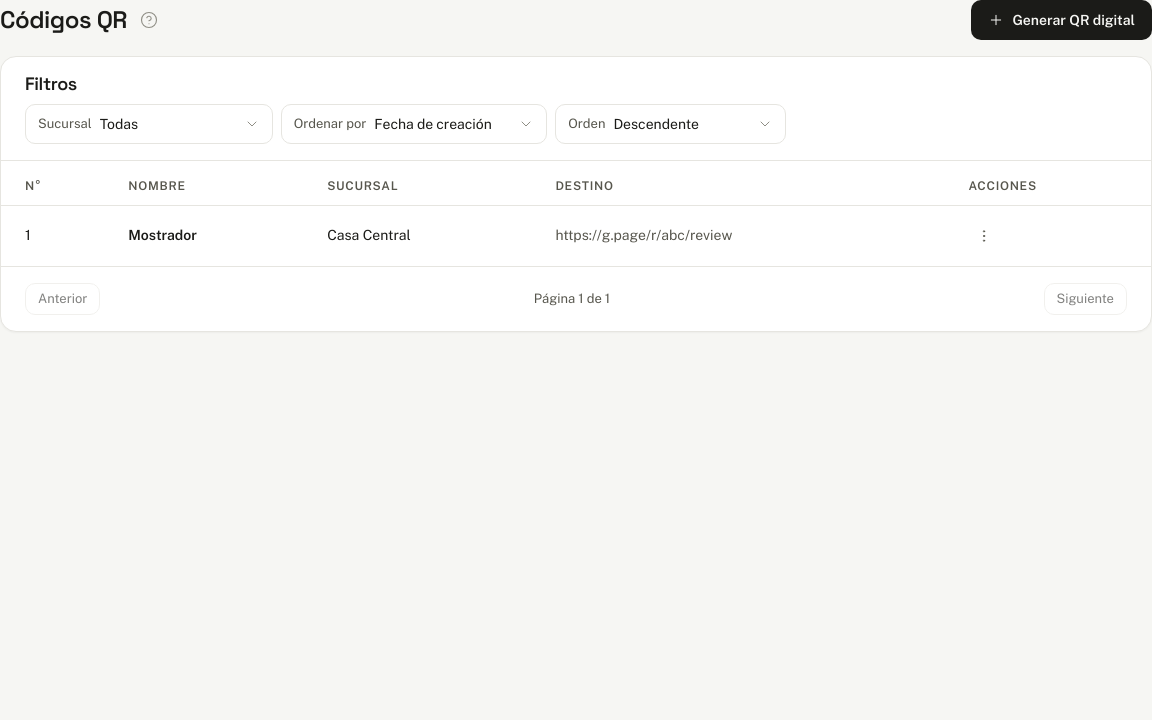
QrListPage — diálogos › Editar abre el formulario hidratado con la fila, sin sucursal
The width and height of the screenshot is (1152, 720).
Check: the table is shown, box [1,160,1151,266]
Step 1. Click the button named "Más acciones" → coordinates (984, 236), box [968,220,1000,252]
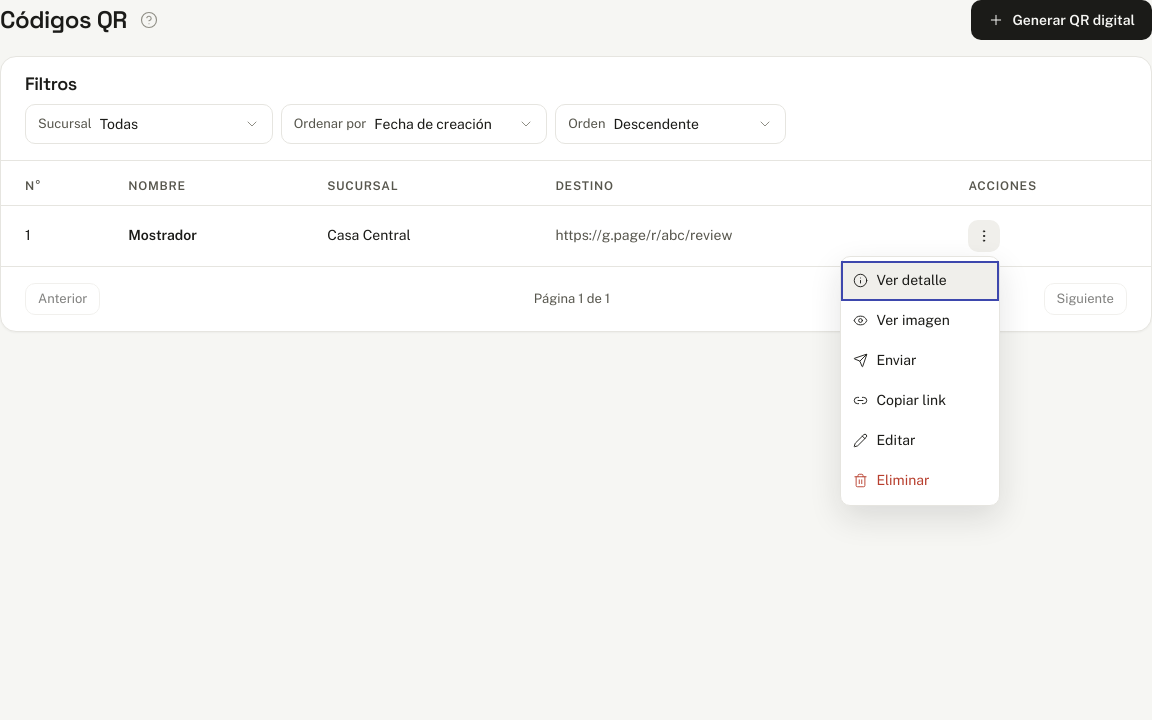
Step 2. Click the menu item "Editar" → coordinates (920, 440), box [841,420,999,460]
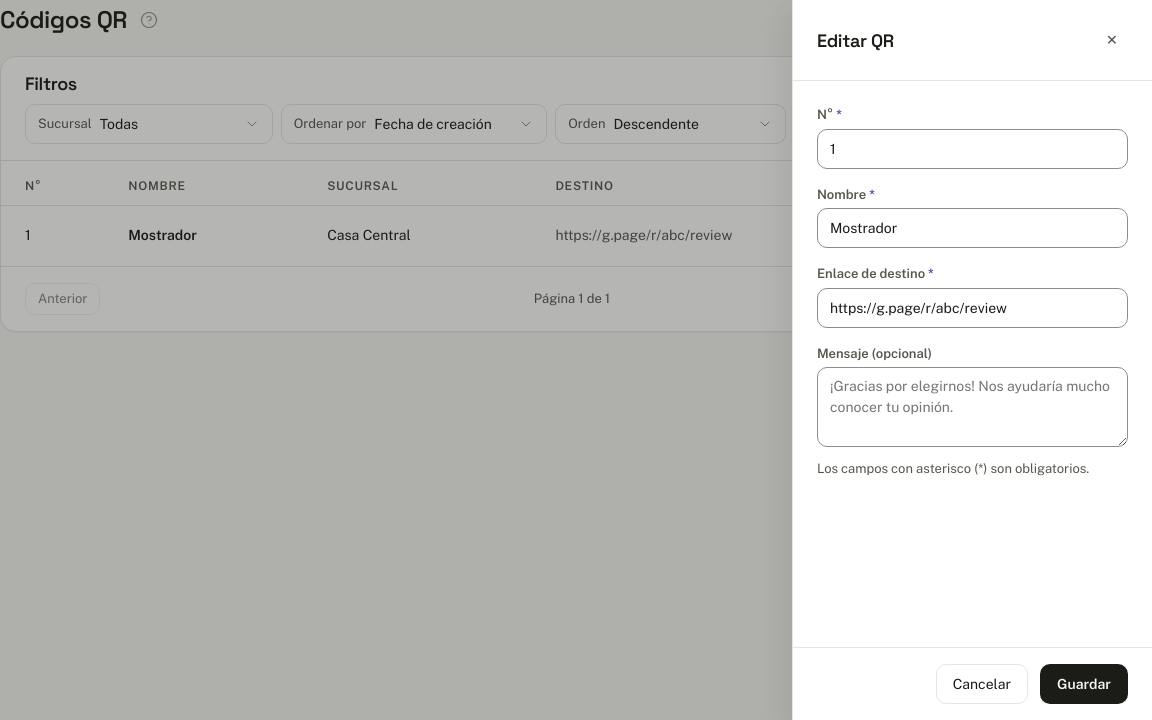
Check: the field labelled "Nombre" holds "Mostrador", box [817,208,1128,248]
Check: the field labelled "Enlace de destino" holds "https://g.page/r/abc/review", box [817,288,1128,328]
